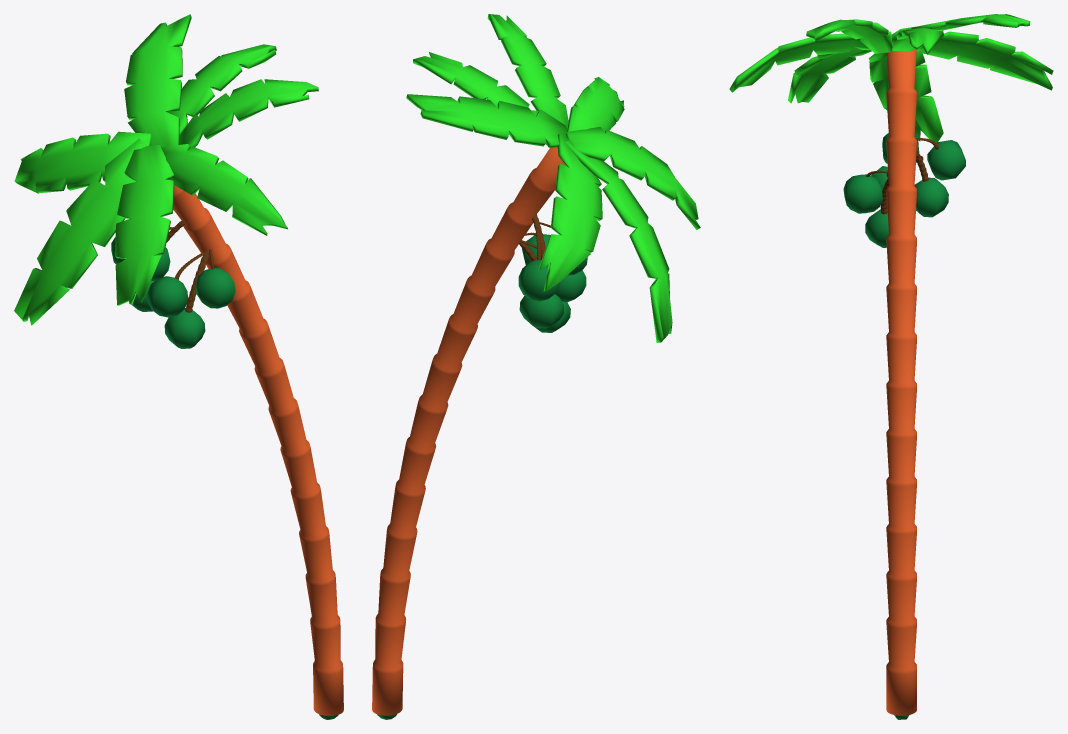
File: Coqueiro.fbx
The picture shows the model from 3 angles, left to right: view 1: azimuth 30°, elevation 25°; view 2: azimuth 150°, elevation 25°; view 3: azimuth 270°, elevation 25°; orthographic projection. The views are drawn at different scales.
Visible parts, largest first — view 1: Folhas, Tronco, Coco.005, Coco.006, Coco.004; view 2: Folhas, Tronco, Coco.003, Coco.001, Coco.005; view 3: Tronco, Folhas, Coco.006, Coco.001, Coco.003, Coco.004.
Part boxes in pixels (x1,y1,x2,y2): Folhas: (14,14,318,325); Tronco: (169,179,343,715); Coco.005: (147,276,187,317); Coco.006: (195,268,235,308); Coco.004: (164,308,205,348); Folhas: (406,14,700,342); Tronco: (372,147,565,715); Coco.003: (519,294,563,328); Coco.001: (518,260,559,301); Coco.005: (555,270,586,302); Tronco: (886,46,916,715); Folhas: (729,14,1053,142); Coco.006: (843,174,882,213); Coco.001: (927,140,965,180); Coco.003: (914,177,948,217); Coco.004: (865,209,888,247).
Size of the model in its own units: 570 by 1211 by 540.
